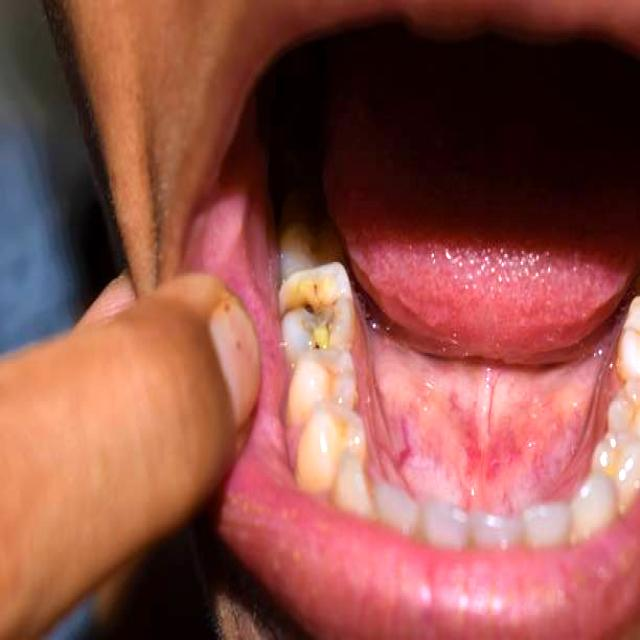cariess: (281, 265, 344, 365)
